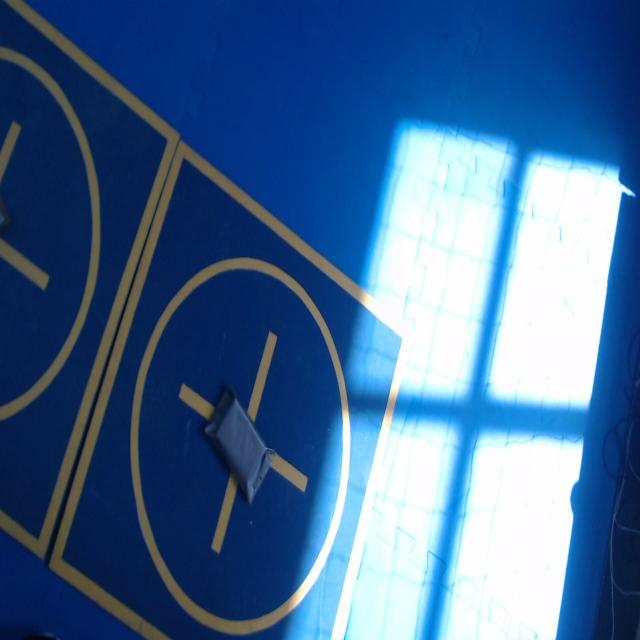esquerda: (204, 390, 273, 503)
